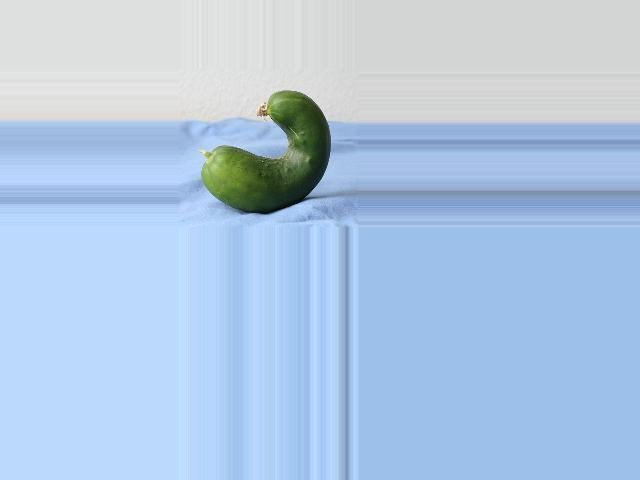cucumber: (200, 90, 330, 213)
